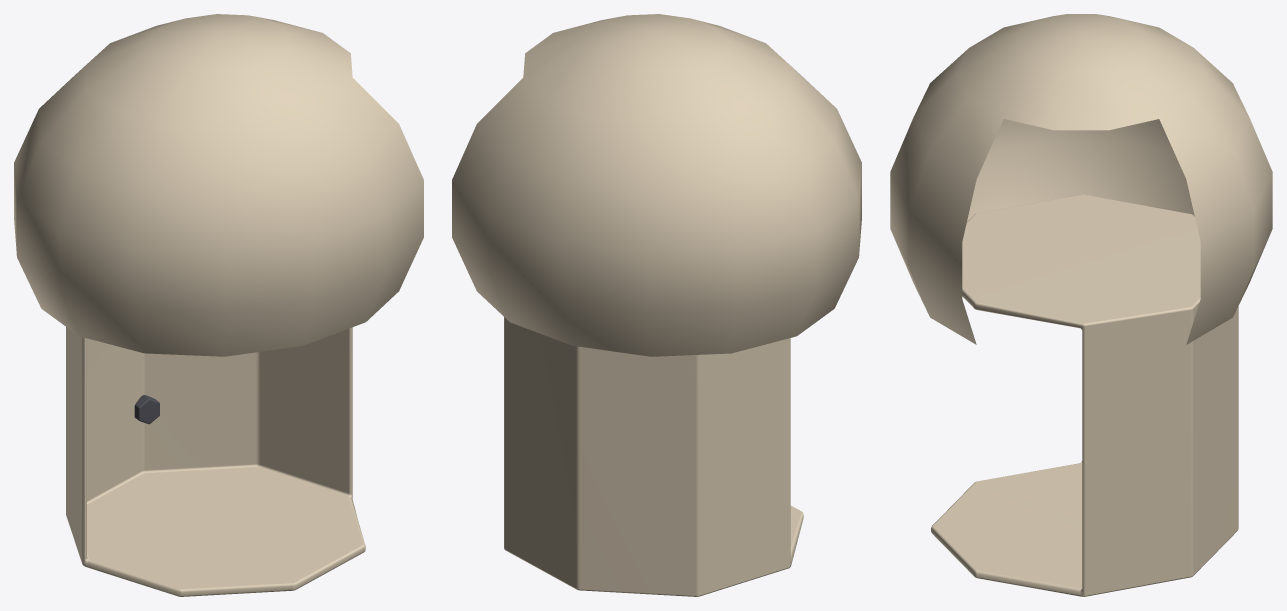
File: kitbash_shell_arm_left_001_upper.glb
The picture shows the model from 3 angles, left to right: view 1: azimuth 30°, elevation 25°; view 2: azimuth 150°, elevation 25°; view 3: azimuth 270°, elevation 25°; orthographic projection.
Visible parts, largest first — view 1: SHELL_armL_up; view 2: SHELL_armL_up; view 3: SHELL_armL_up.
Boxes of the visible parts, left/top/right/bottom form: SHELL_armL_up: left=14, top=14, right=423, bottom=596; SHELL_armL_up: left=452, top=14, right=861, bottom=596; SHELL_armL_up: left=890, top=14, right=1272, bottom=596.
Size of the model in its own units: 0.519 by 0.767 by 0.5318.
